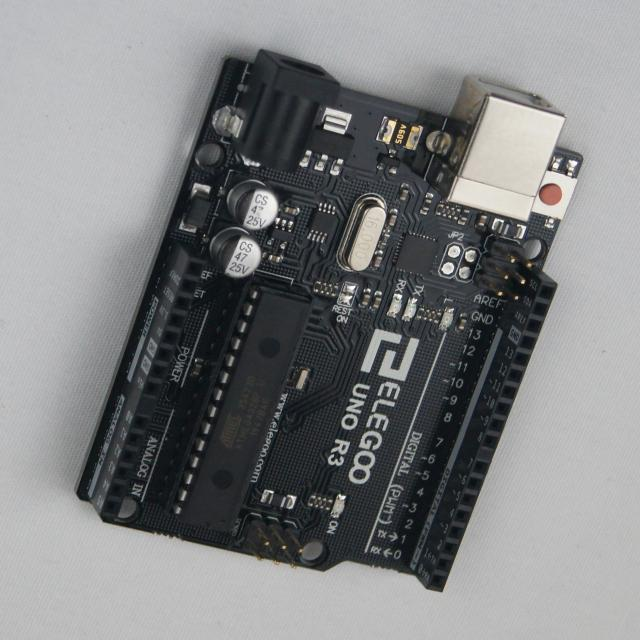Arduino Uno -Black-: (79, 50, 583, 591)
